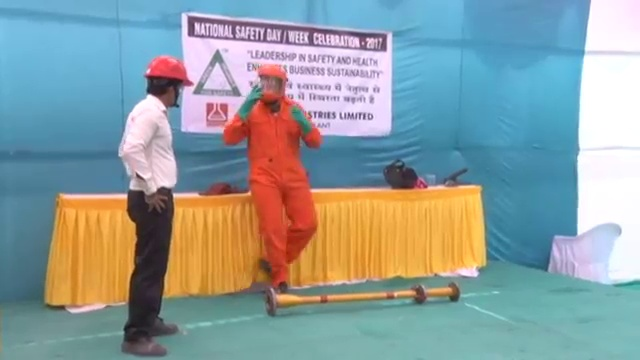helmet: (143, 54, 195, 87), (257, 60, 287, 80)
helmet_on: (141, 53, 195, 111), (255, 61, 288, 104)
person: (115, 54, 195, 356), (223, 60, 324, 291)
